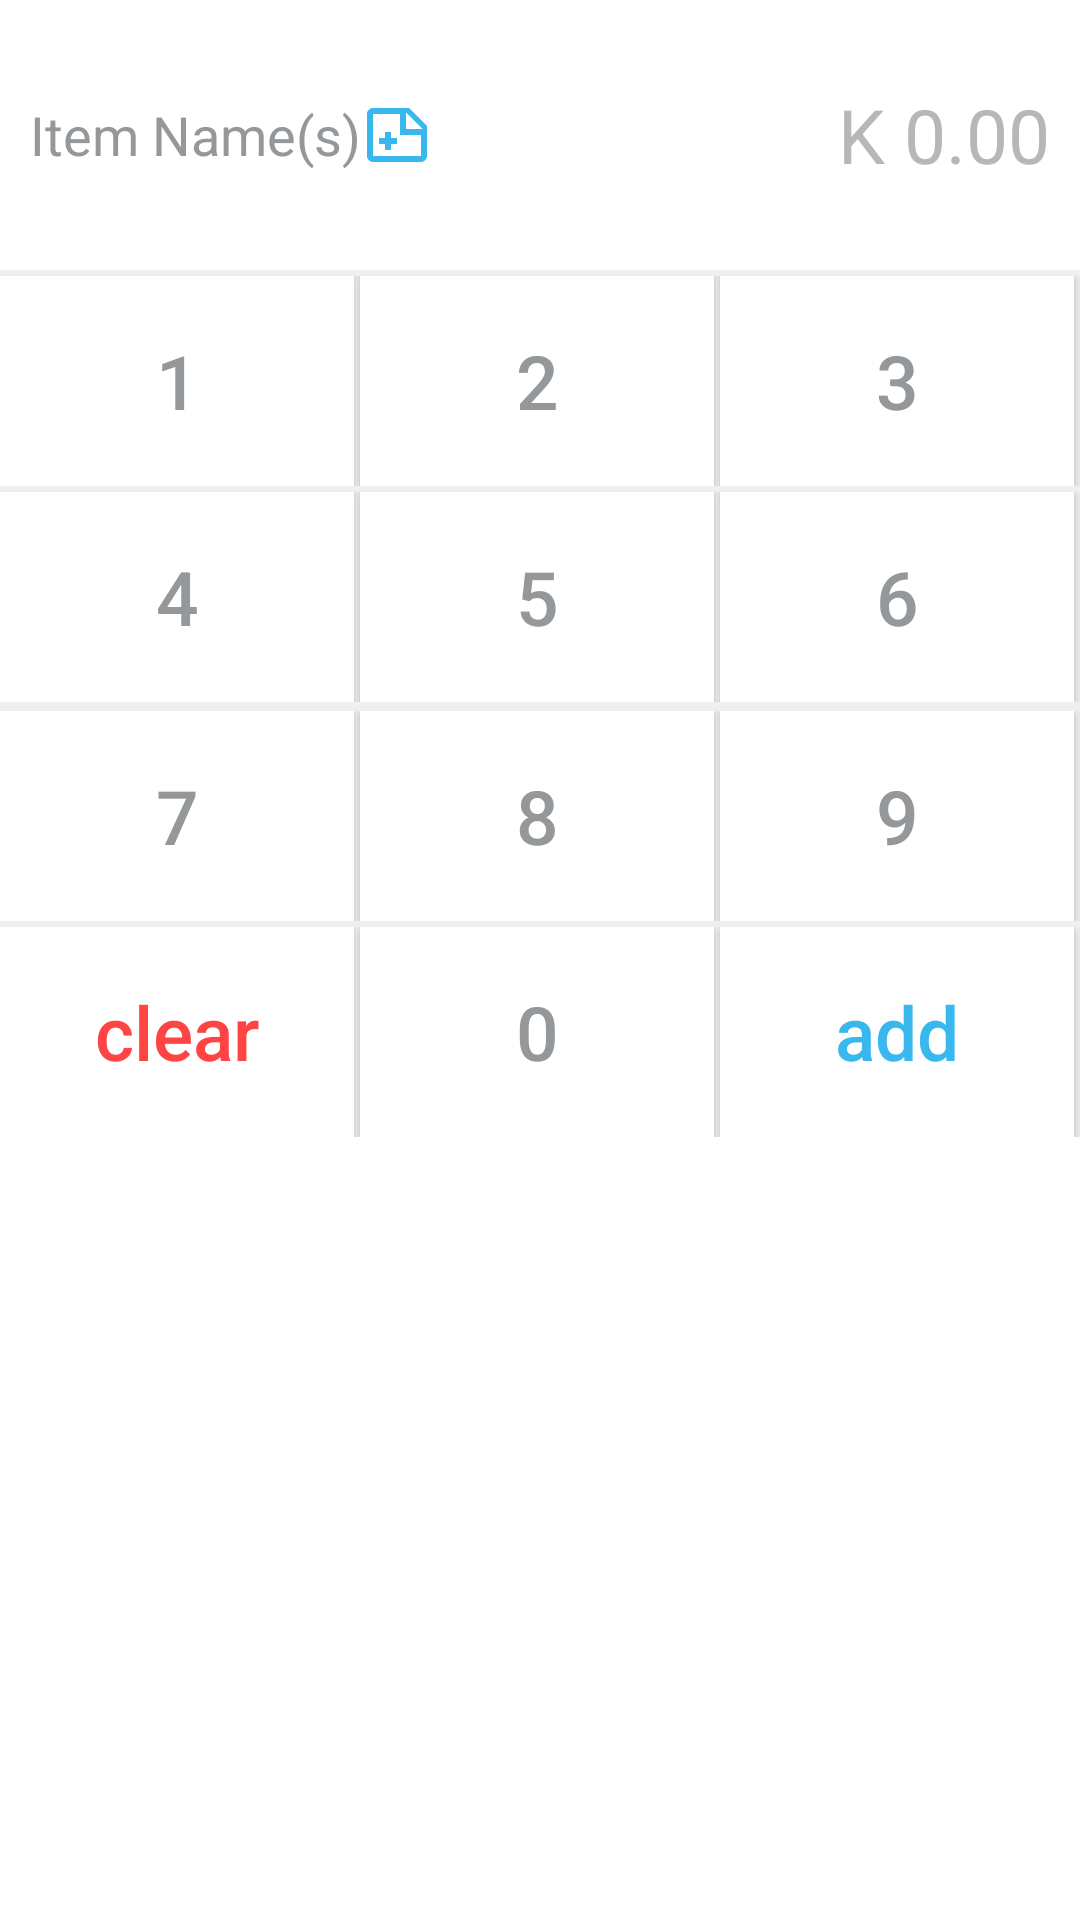

Screen size 1080 × 1920. Icon name, then its center in pixels as (x=x, y=y):
note: (x=397, y=135)
